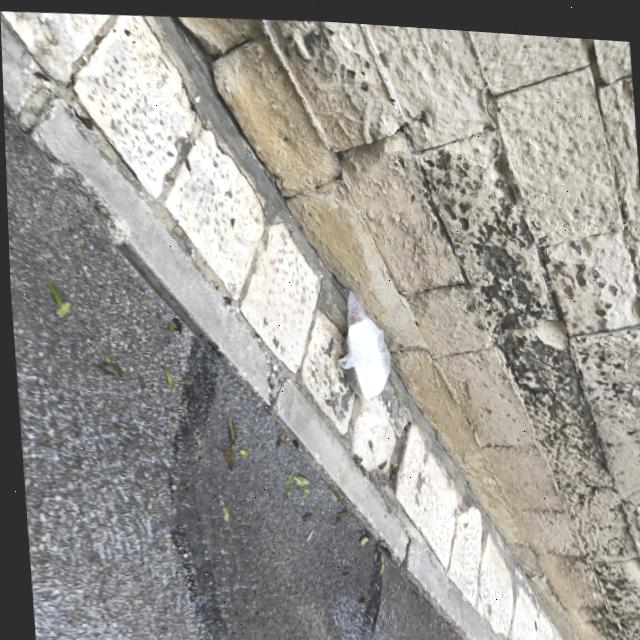Organic Waste -White Bag-: (325, 284, 395, 403)
